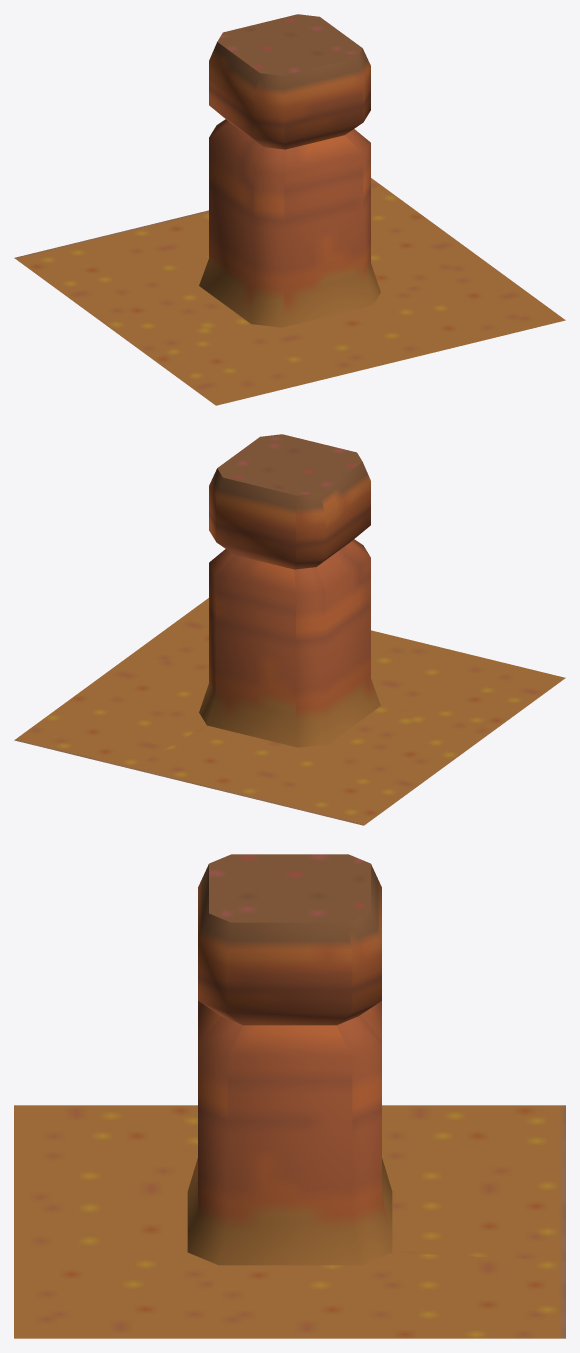
Rendered from canion_column_v03.fbx.
3 renders of one model, top to bottom at view 1: azimuth 30°, elevation 25°; view 2: azimuth 150°, elevation 25°; view 3: azimuth 270°, elevation 25°, orthographic. The views are drawn at different scales.
Parts seen in each view (by area): view 1: canion_column_v03; view 2: canion_column_v03; view 3: canion_column_v03.
Part boxes in pixels (x1,y1,x2,y2): canion_column_v03: (14, 14, 565, 405); canion_column_v03: (14, 434, 565, 825); canion_column_v03: (14, 854, 565, 1338).
Bounding box in the file's own units: 600 × 400 × 600.
